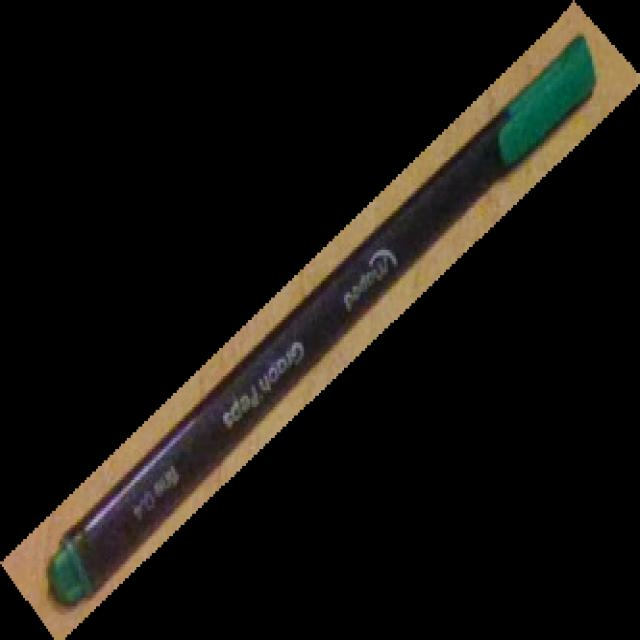green: (1, 1, 640, 640)
